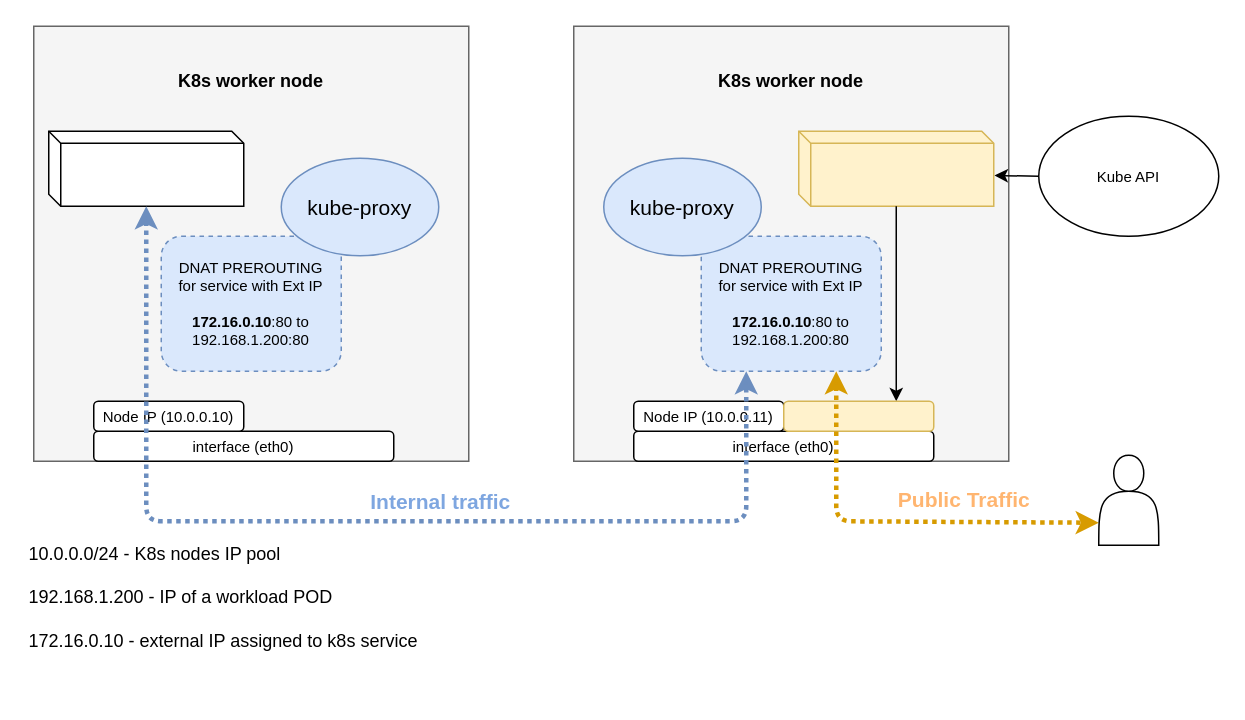
The diagram is 1245 pixels wide and 720 high, and some of its shapes have lost their labels. The centre of each missing label's shape, as x and y in pixels:
"Ext IP (172.16.0.10)" goes at [858,415].
"External Client" goes at [1128,499].
"External IP controller" goes at [895,168].
"Workload POD 192.168.1.200:80" goes at [145,168].
